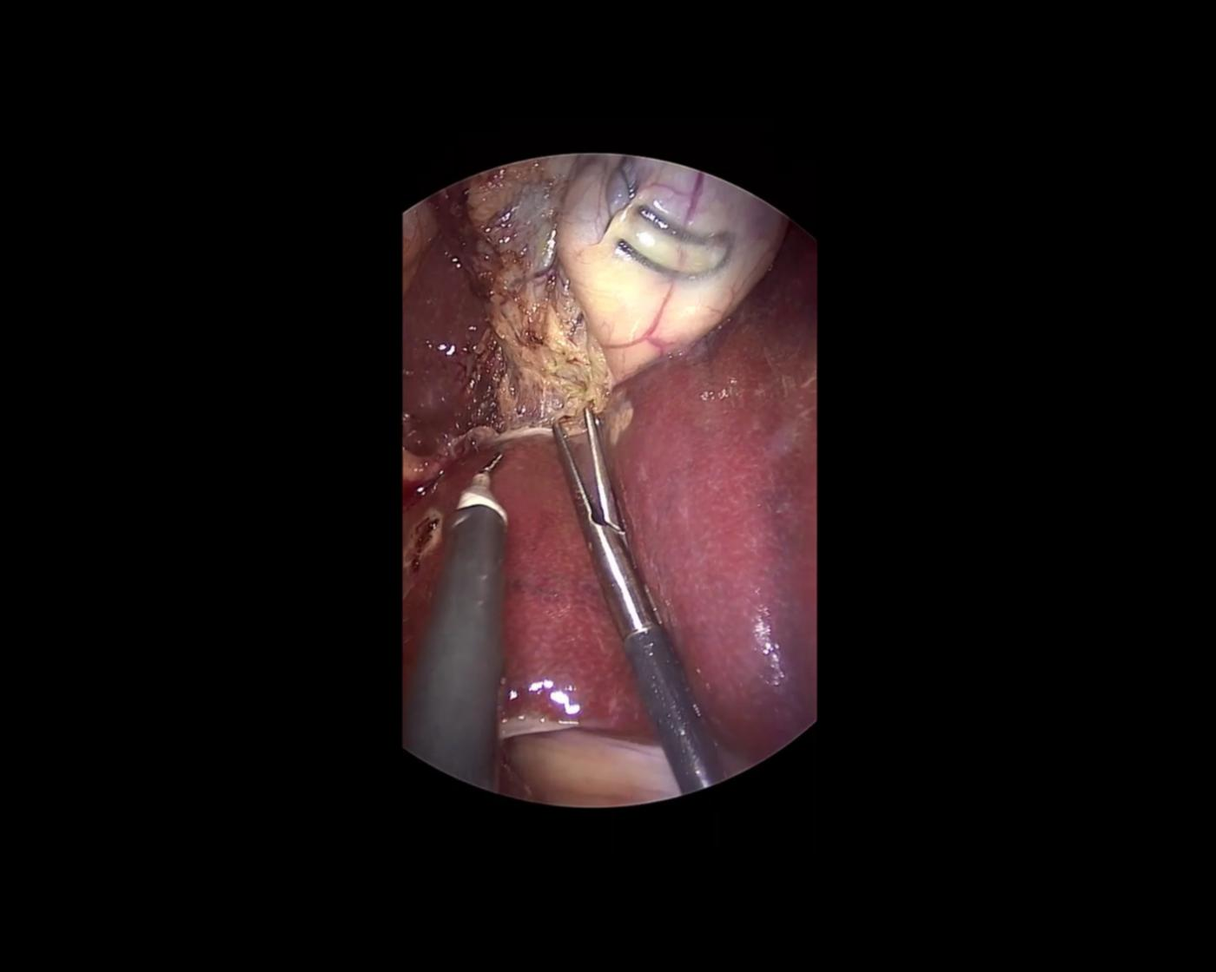Cautery: (399, 448, 506, 794)
Forceps: (546, 404, 727, 802)
Gallbladder: (438, 96, 816, 411)
Liver: (394, 222, 817, 784), (390, 208, 499, 466)
